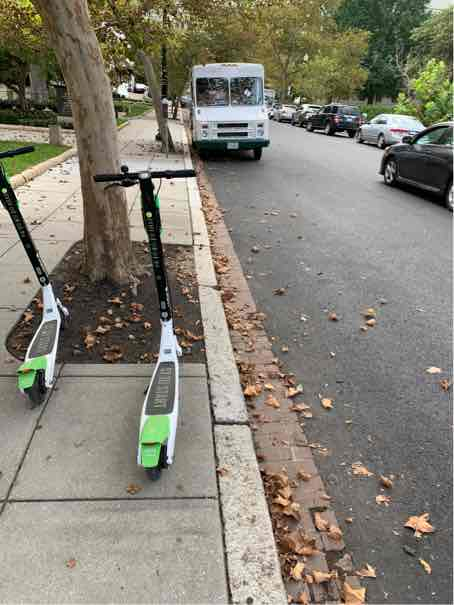scooter: (80, 160, 211, 483), (0, 146, 65, 406)
